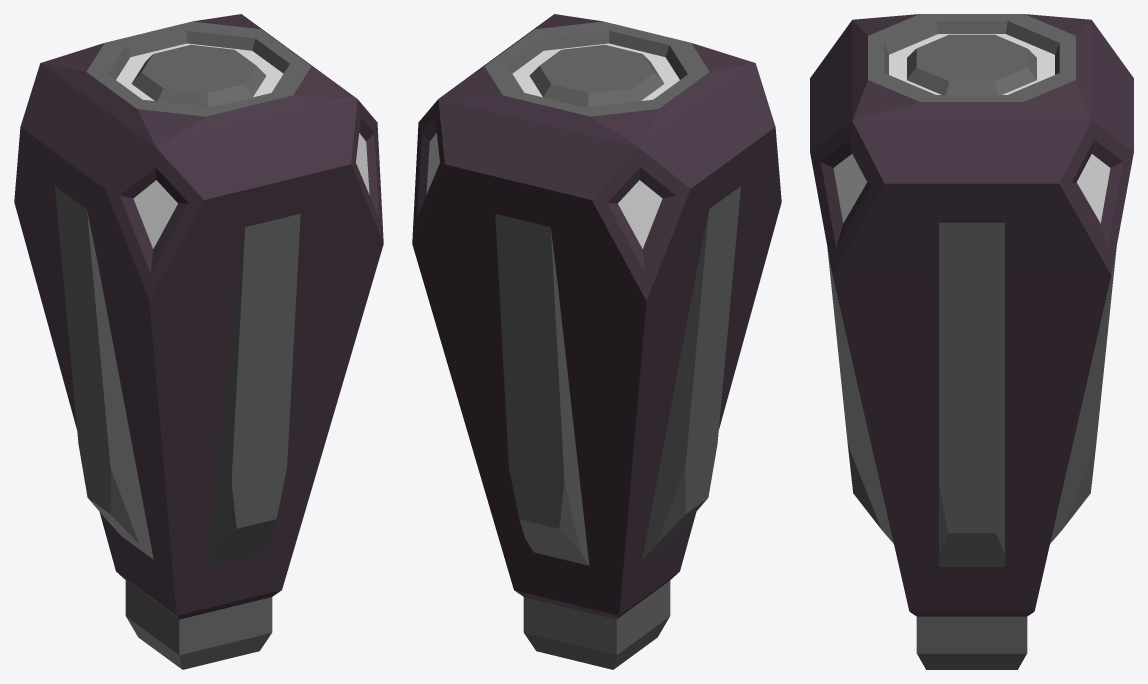
Rendered from Artifact_1.fbx.
3 renders of one model, left to right at view 1: azimuth 30°, elevation 25°; view 2: azimuth 150°, elevation 25°; view 3: azimuth 270°, elevation 25°, orthographic. The views are drawn at different scales.
Parts seen in each view (by area): view 1: Solid; view 2: Solid; view 3: Solid.
Part boxes in pixels (left/top/right/bottom): Solid: left=14, top=14, right=383, bottom=669; Solid: left=412, top=14, right=781, bottom=669; Solid: left=810, top=14, right=1133, bottom=669.
Bounding box in the file's own units: 154 × 311 × 154.
